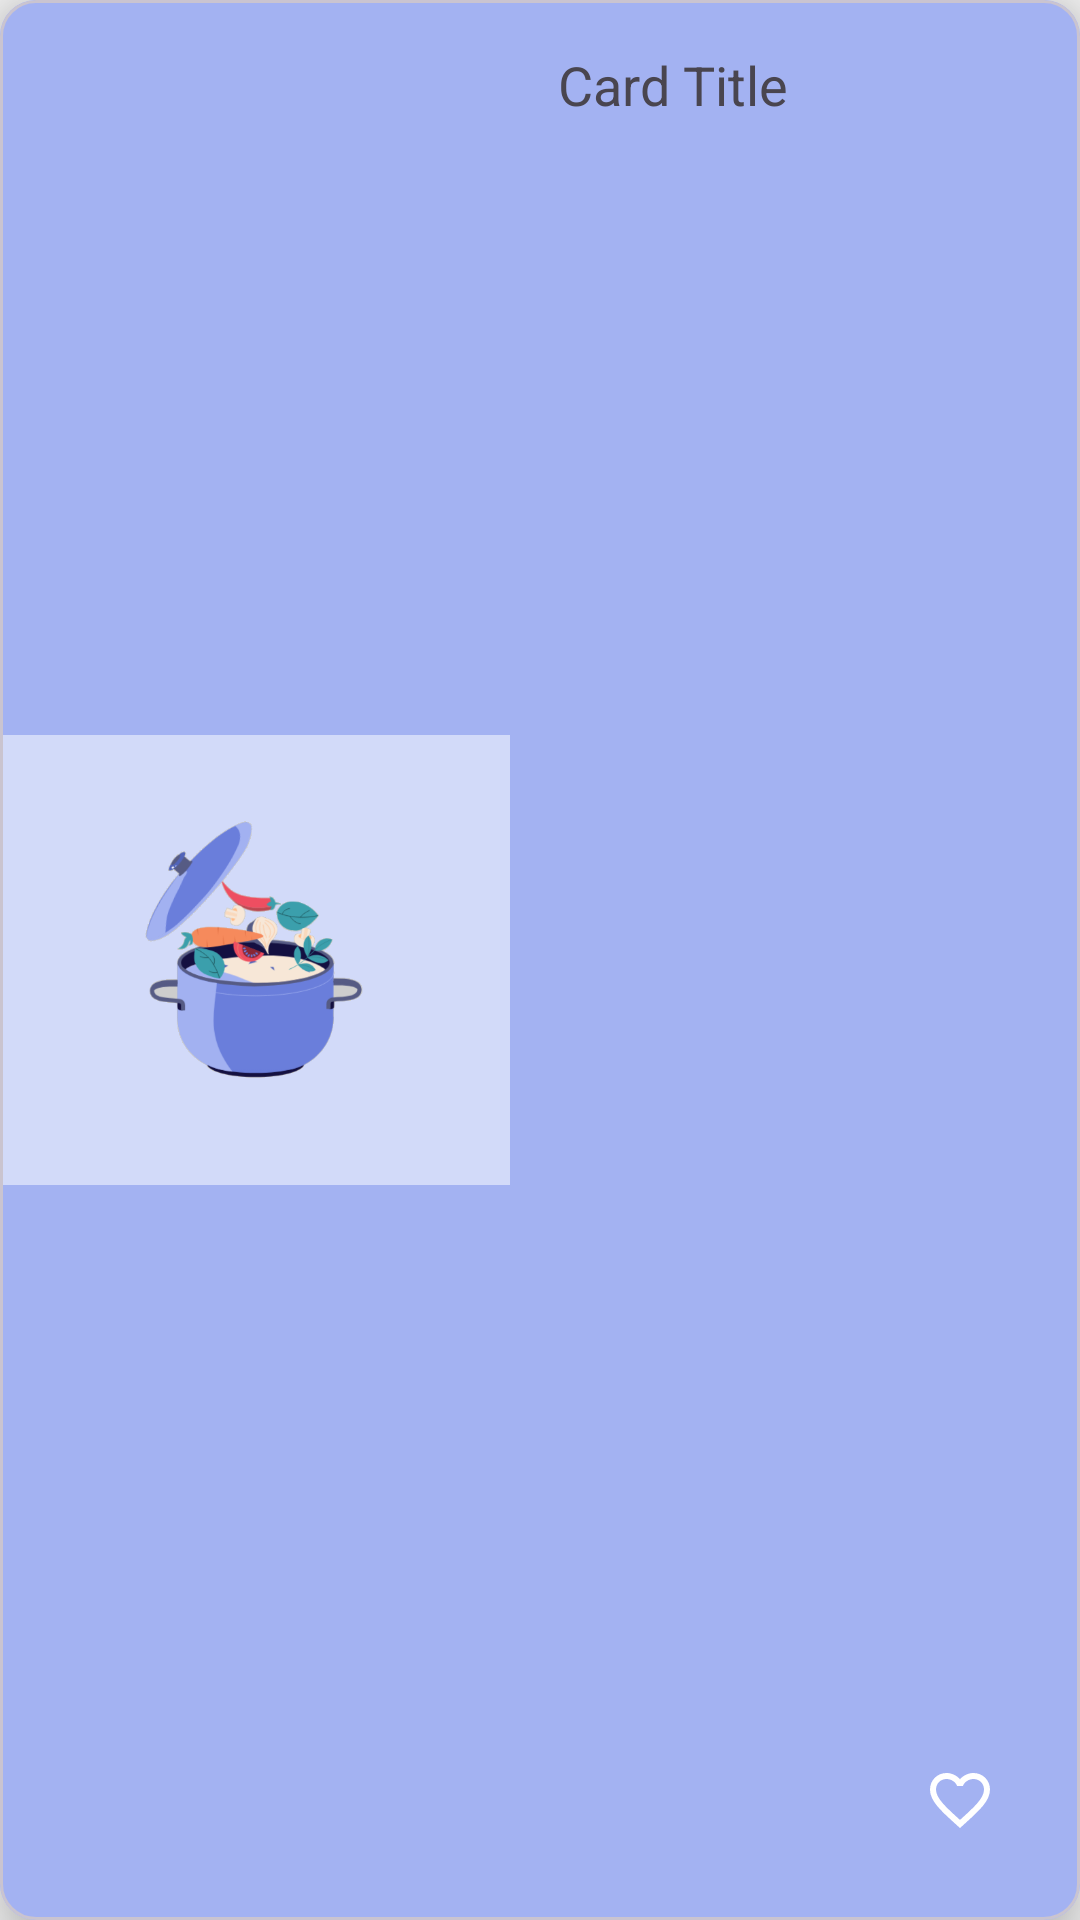

Where to tap for icons on this 1080 × 1920 app screen, as [x,y]:
favorite border: [960,1800]
